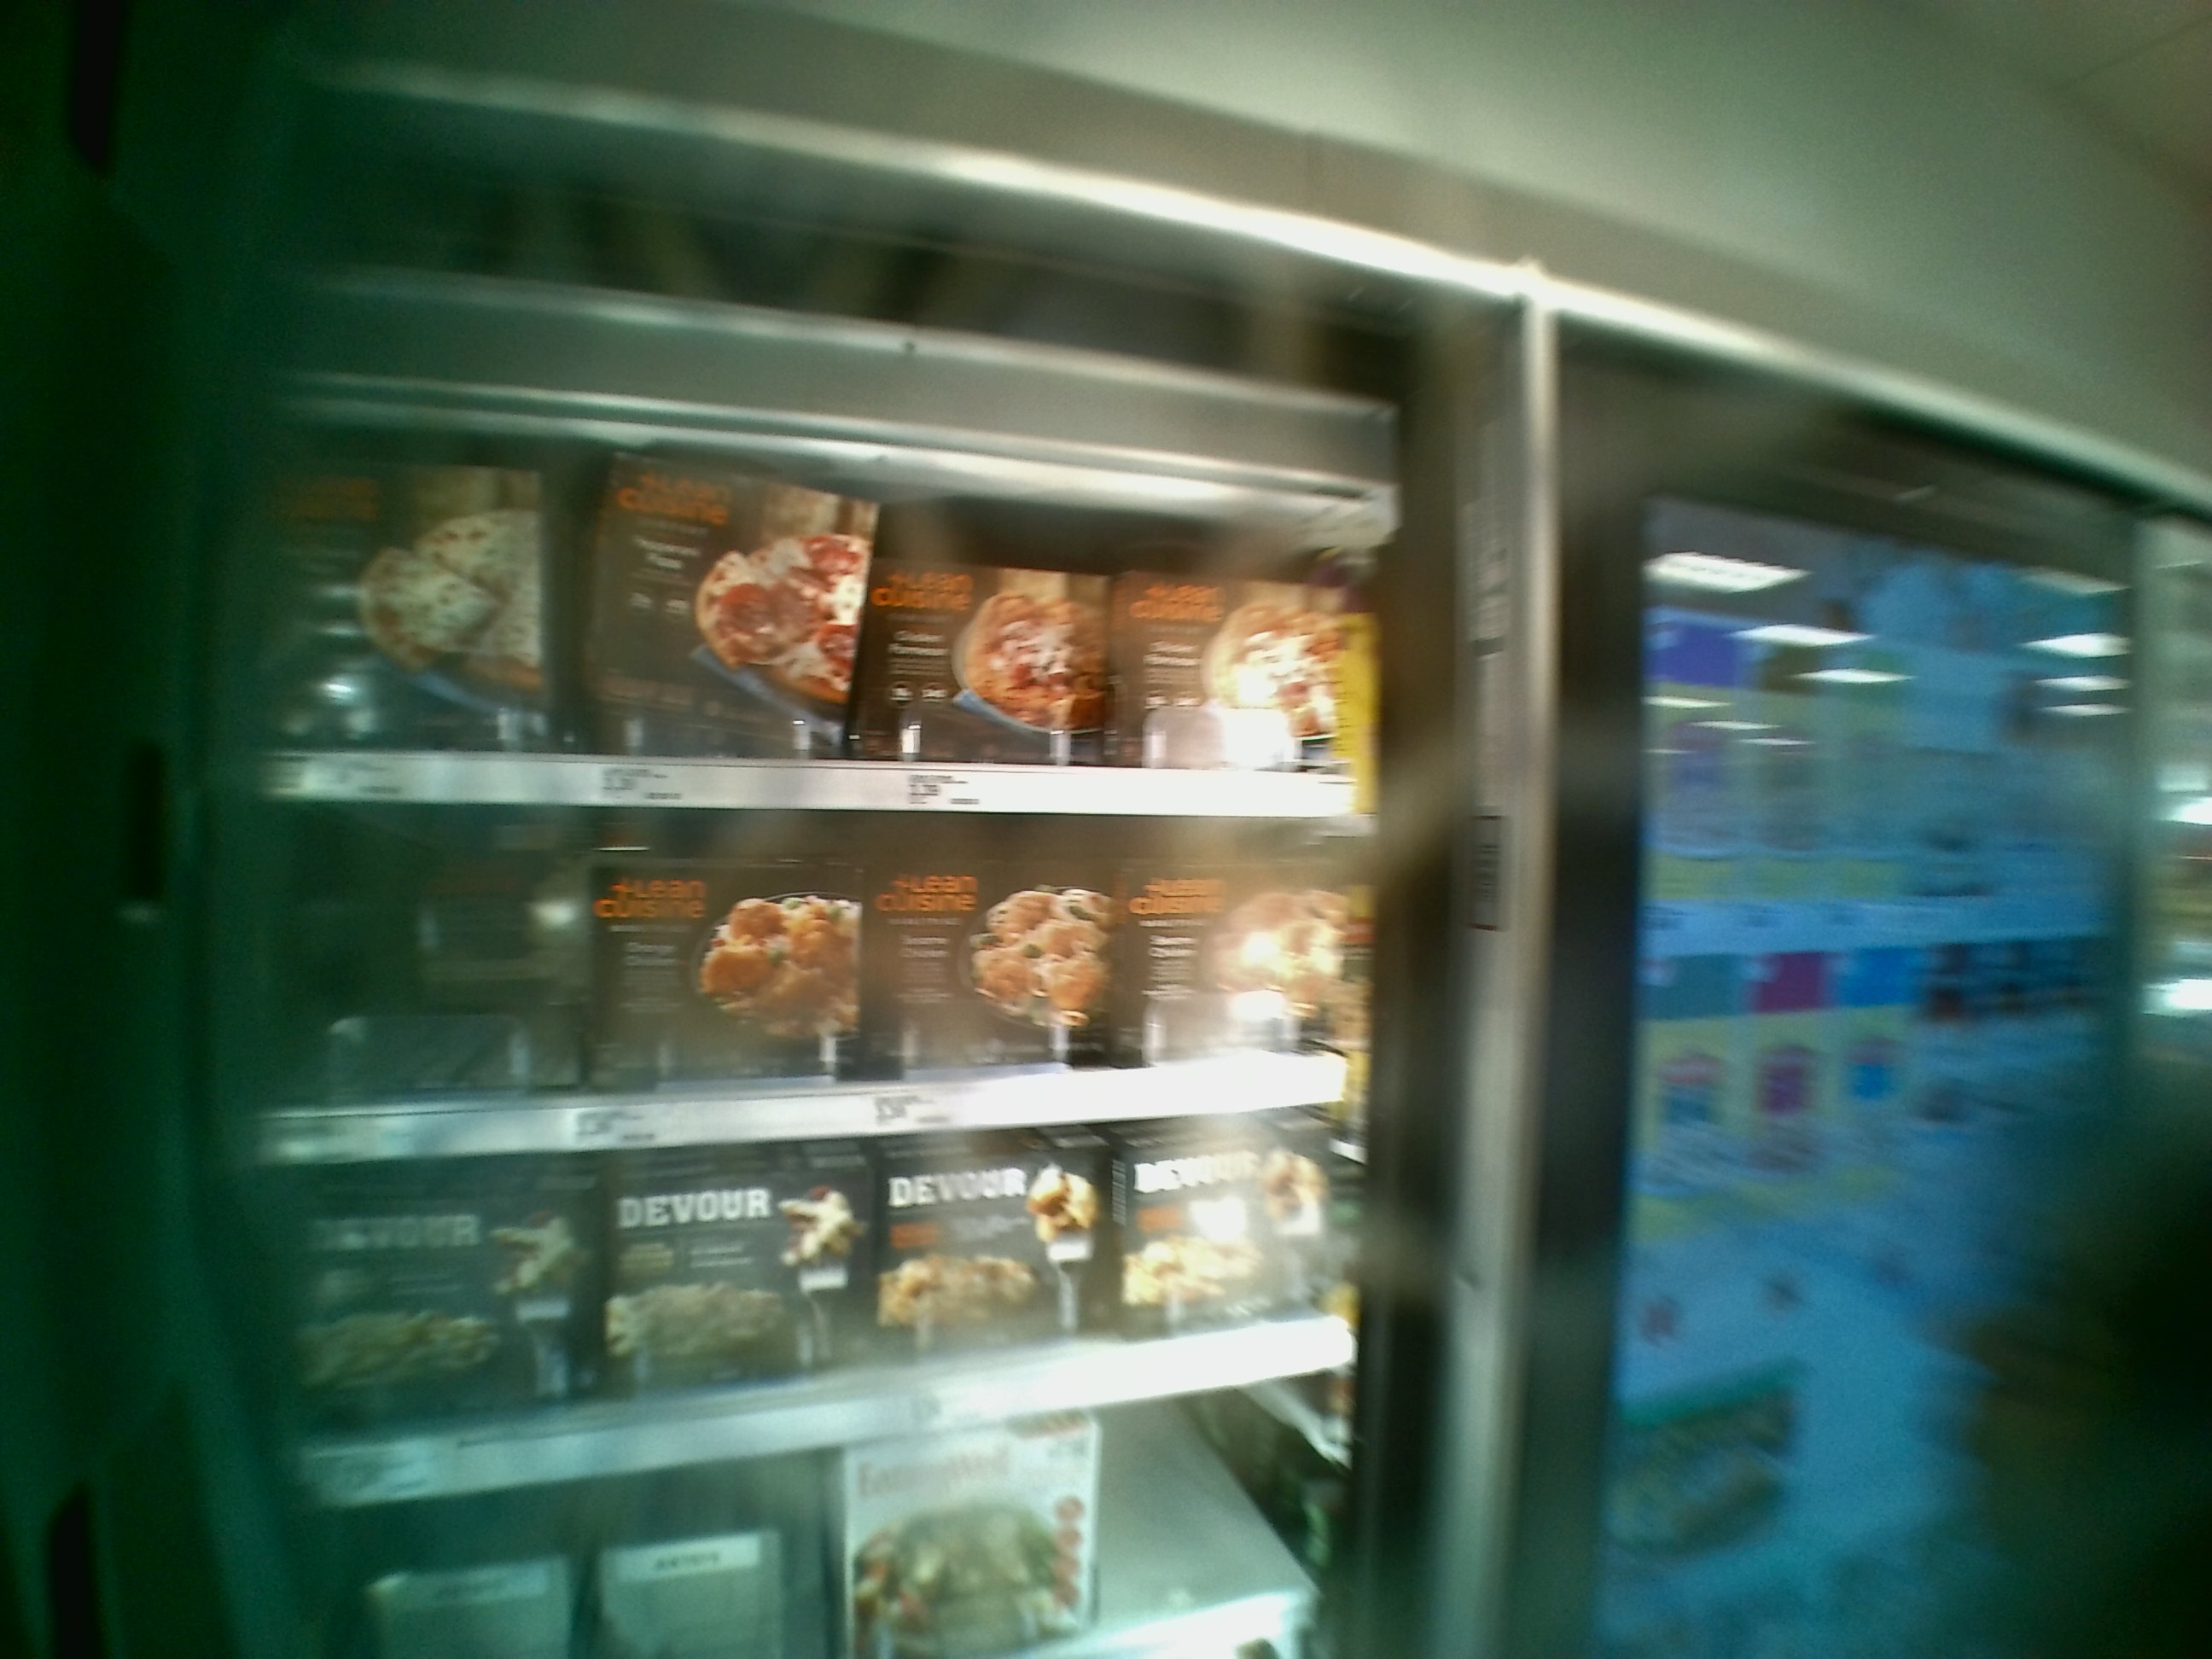Shelf: (244, 401, 1367, 817), (230, 802, 1379, 1154)
